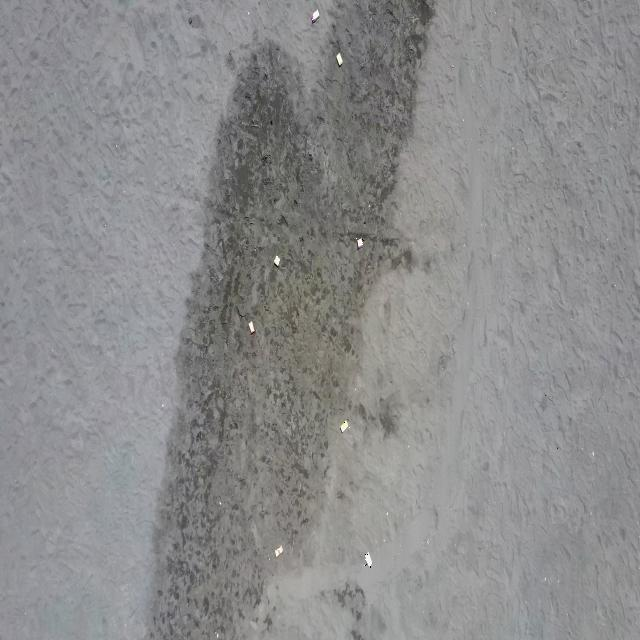Garbage: (364, 552, 371, 567), (312, 8, 319, 22), (273, 544, 281, 556), (340, 420, 347, 432), (336, 52, 342, 65), (356, 238, 363, 247), (273, 256, 279, 266), (248, 320, 252, 333)
